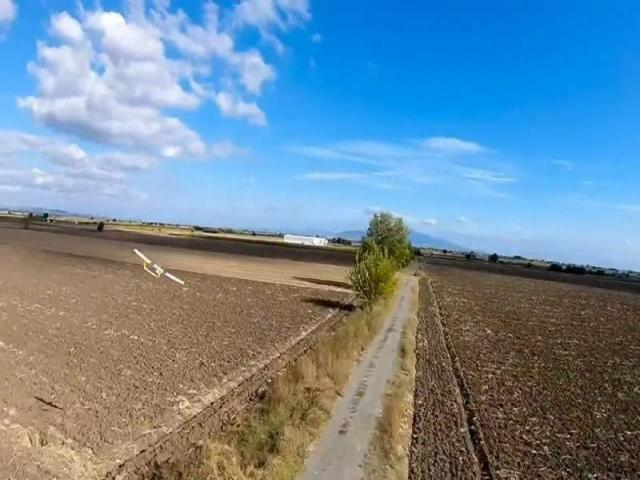hedef: (130, 244, 190, 294)
